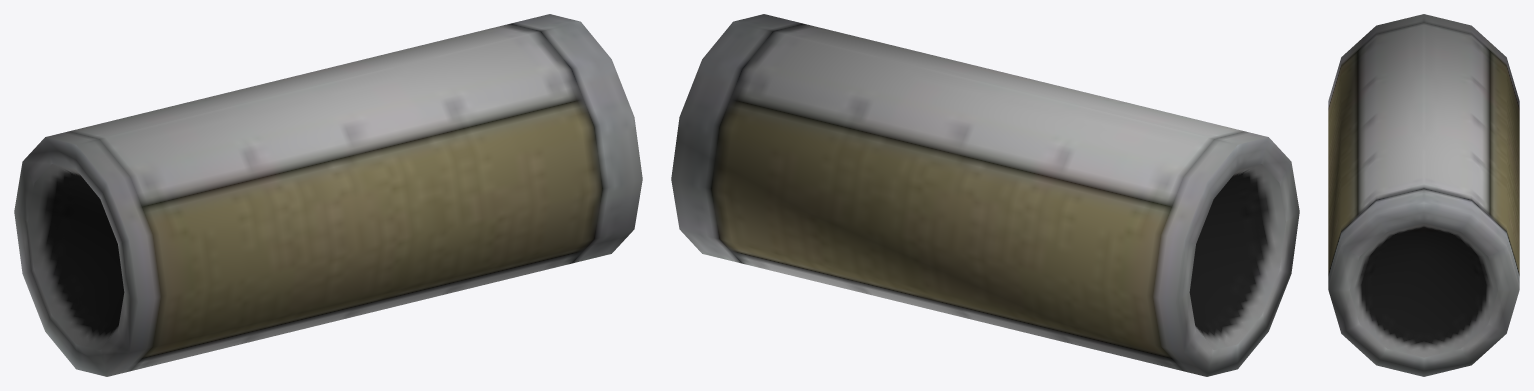
Rendered from Part - Tube 04 half-BRKu4Kgj.glb.
The picture shows the model from 3 angles, left to right: view 1: azimuth 30°, elevation 25°; view 2: azimuth 150°, elevation 25°; view 3: azimuth 270°, elevation 25°; orthographic projection. The views are drawn at different scales.
Visible parts, largest first — view 1: Tube_04_half; view 2: Tube_04_half; view 3: Tube_04_half.
Boxes of the visible parts, x1=… form: Tube_04_half: x1=14, y1=14, x2=642, y2=376; Tube_04_half: x1=671, y1=14, x2=1299, y2=376; Tube_04_half: x1=1328, y1=14, x2=1519, y2=376.
Bounding box in the file's own units: 1 × 0.4252 × 0.4252.
Materials: 1 (1 with a texture image).
